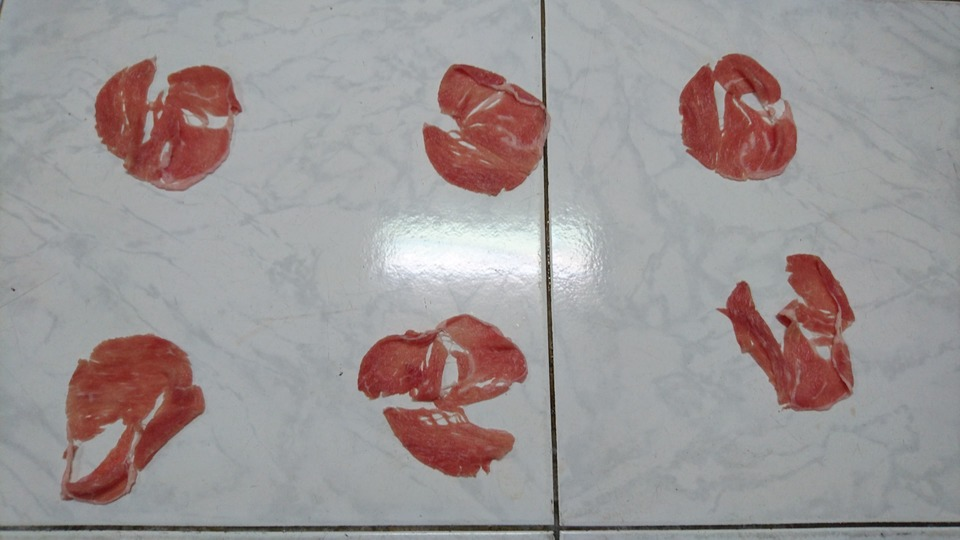restructured meat: (347, 291, 529, 483), (44, 317, 206, 506), (723, 237, 871, 417), (85, 42, 247, 200), (421, 65, 579, 210), (671, 46, 807, 193)
